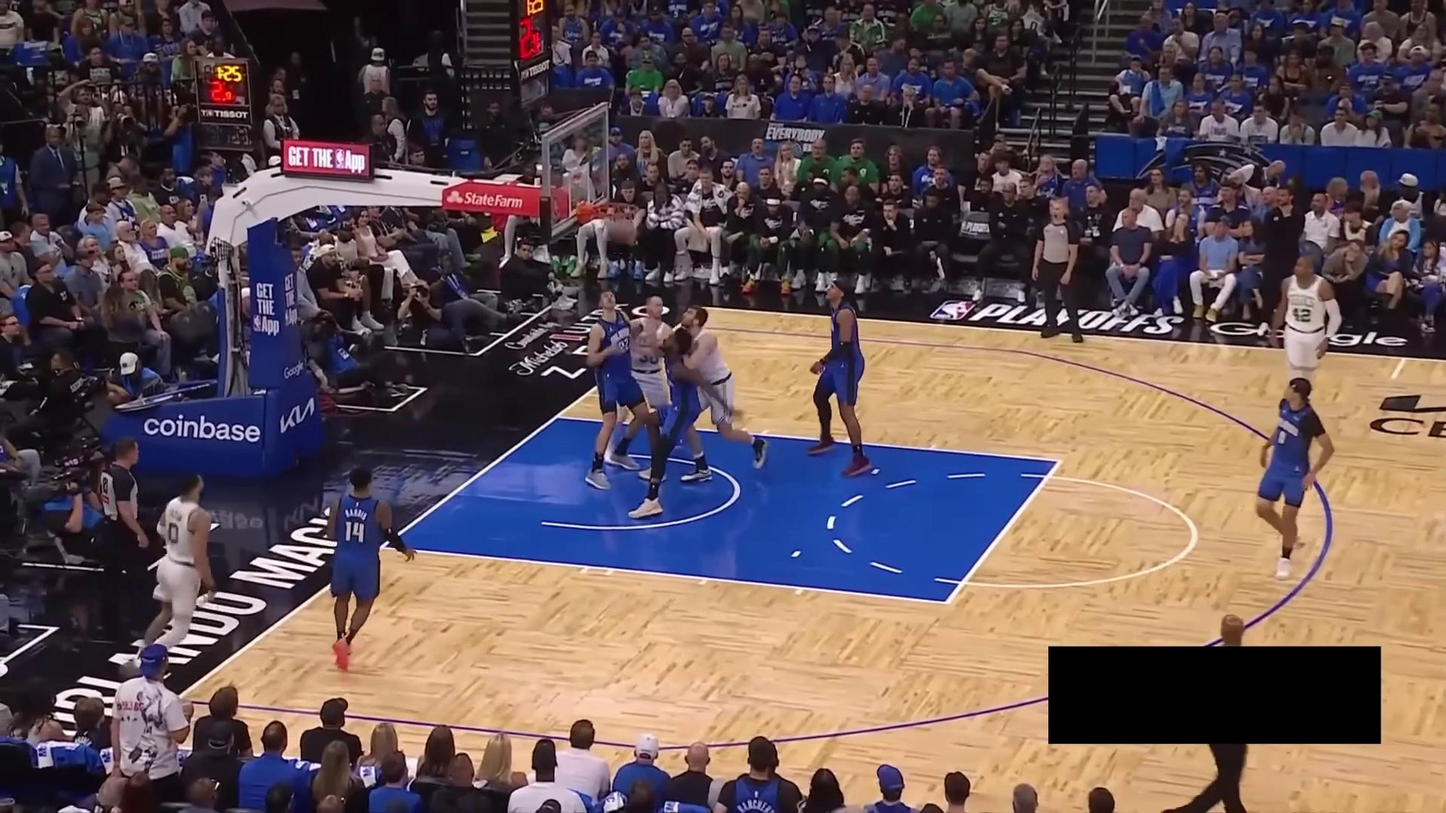ball: (609, 218, 637, 246)
ball-in-basket: (590, 201, 640, 246)
number: (344, 519, 367, 546), (166, 520, 181, 544), (1292, 307, 1313, 323), (1278, 430, 1287, 445)
player: (627, 323, 741, 522), (324, 461, 416, 673), (130, 470, 223, 678), (1251, 377, 1340, 582), (675, 302, 770, 482), (806, 275, 874, 481), (584, 287, 651, 492), (599, 295, 675, 465), (1266, 249, 1341, 386)
referee: (1158, 613, 1255, 813), (94, 431, 155, 653), (1027, 191, 1088, 343)
rim: (590, 202, 640, 220)
